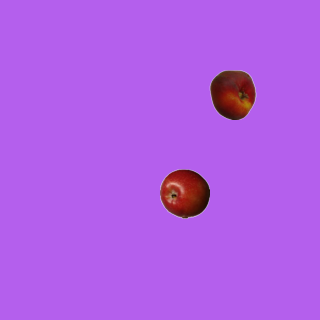Apple Braeburn: (159, 168, 209, 218)
Nectarine Flat: (207, 69, 257, 119)
